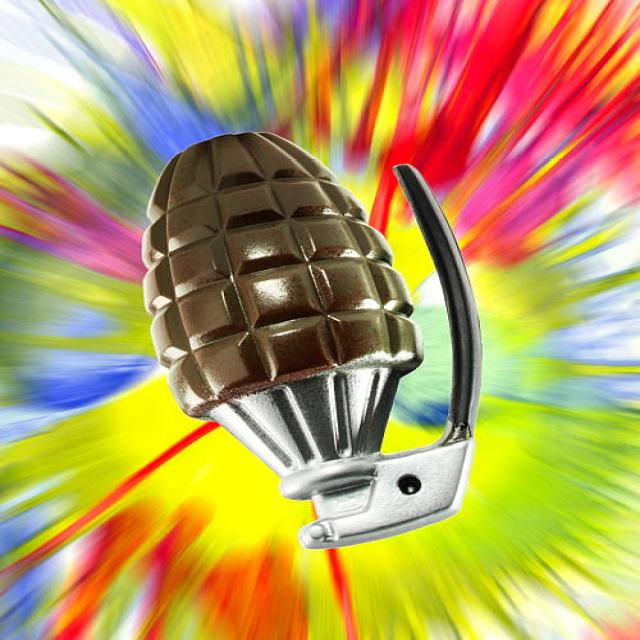grenade: (128, 132, 490, 564)
